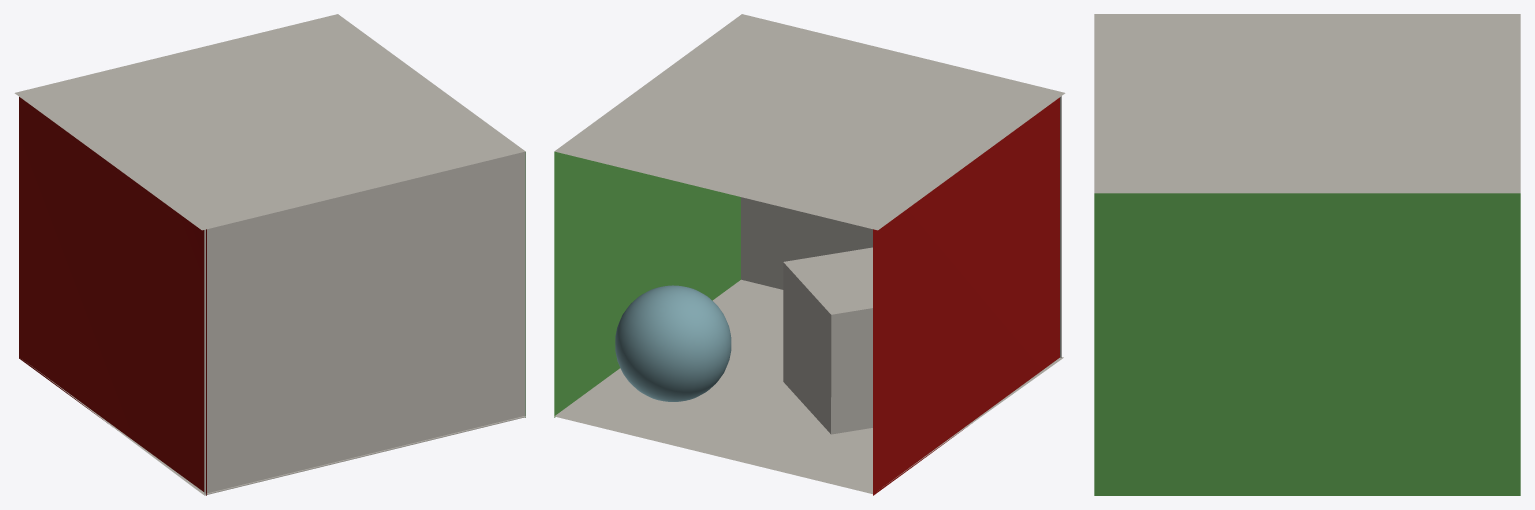
File: CornellBox.obj
3 views of the same model, side by side, from view 1: azimuth 30°, elevation 25°; view 2: azimuth 150°, elevation 25°; view 3: azimuth 270°, elevation 25° (orthographic). The views are drawn at different scales.
Visible parts, largest first — view 1: backWall, ceiling, leftWall, floor; view 2: ceiling, leftWall, rightWall, floor, shortBox, sphere, backWall; view 3: rightWall, ceiling.
Boxes of the visible parts, bbox=[...] form: backWall: bbox=[204, 151, 524, 495]; ceiling: bbox=[14, 14, 525, 230]; leftWall: bbox=[19, 97, 206, 495]; floor: bbox=[29, 364, 525, 494]; ceiling: bbox=[554, 14, 1065, 230]; leftWall: bbox=[873, 97, 1059, 495]; rightWall: bbox=[554, 151, 740, 417]; floor: bbox=[554, 279, 1063, 493]; shortBox: bbox=[783, 247, 872, 434]; sphere: bbox=[615, 285, 731, 401]; backWall: bbox=[741, 96, 1061, 357]; rightWall: bbox=[1094, 193, 1520, 495]; ceiling: bbox=[1094, 14, 1520, 193].
Bounding box in the file's own units: 2.02 × 1.59 × 2.03.
